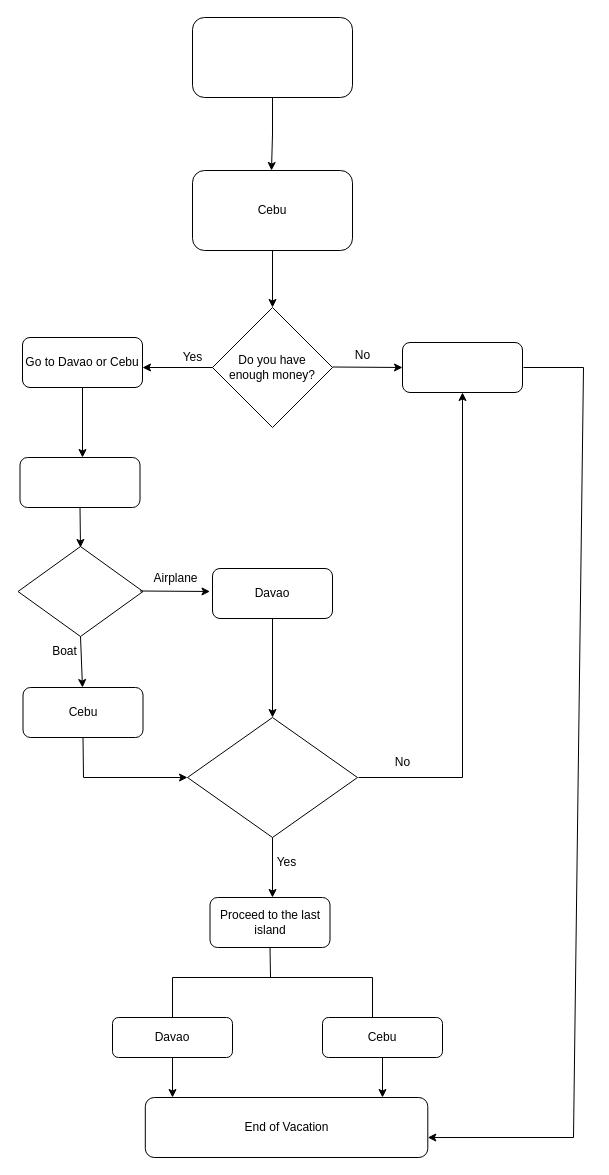
This 609x1175 diagram has some shape labels left out. The centre of each missing label's shape, as x and y in pixels:
A week of Vacation: [272,57]
Airplane or Boat: [80,591]
Go home to Manila: [462,367]
Mode of Transportation: [79,482]
You still have enough money. Would you like to proceed to the next island?: [272,777]
